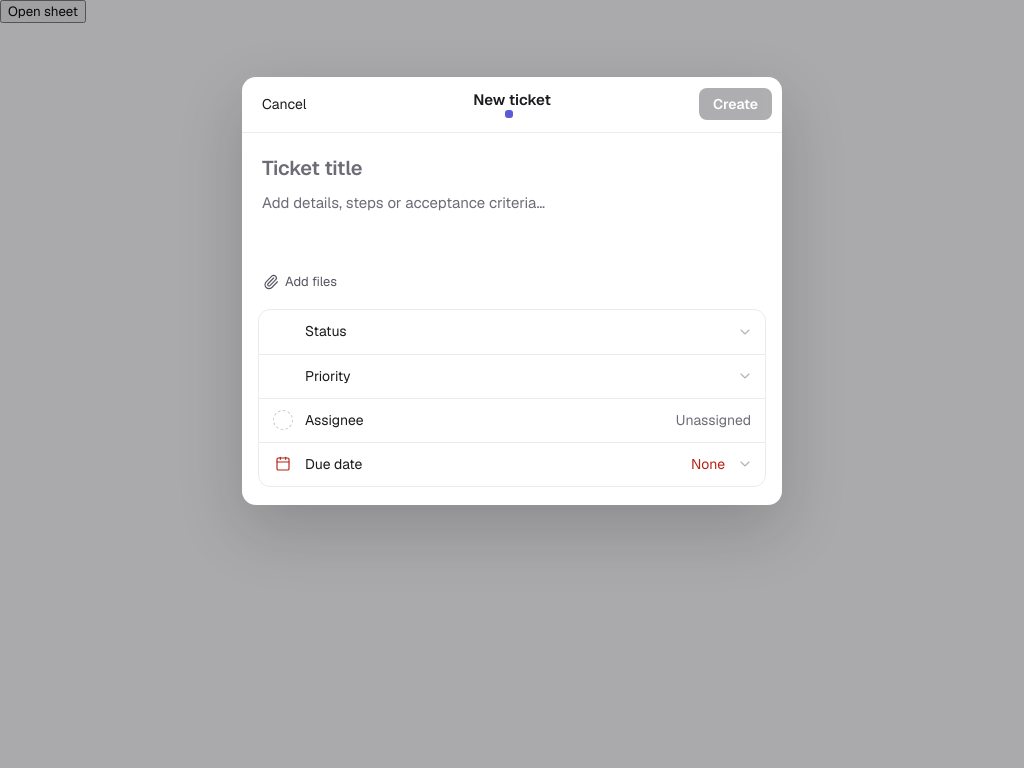
NewTicketSheet › lets the kept fields go once they are emptied or the ticket is created
The width and height of the screenshot is (1024, 768).
Step 1. Type "Typo" into the text box labelled "Ticket title" → x=512, y=168, box [262,151,762,185]
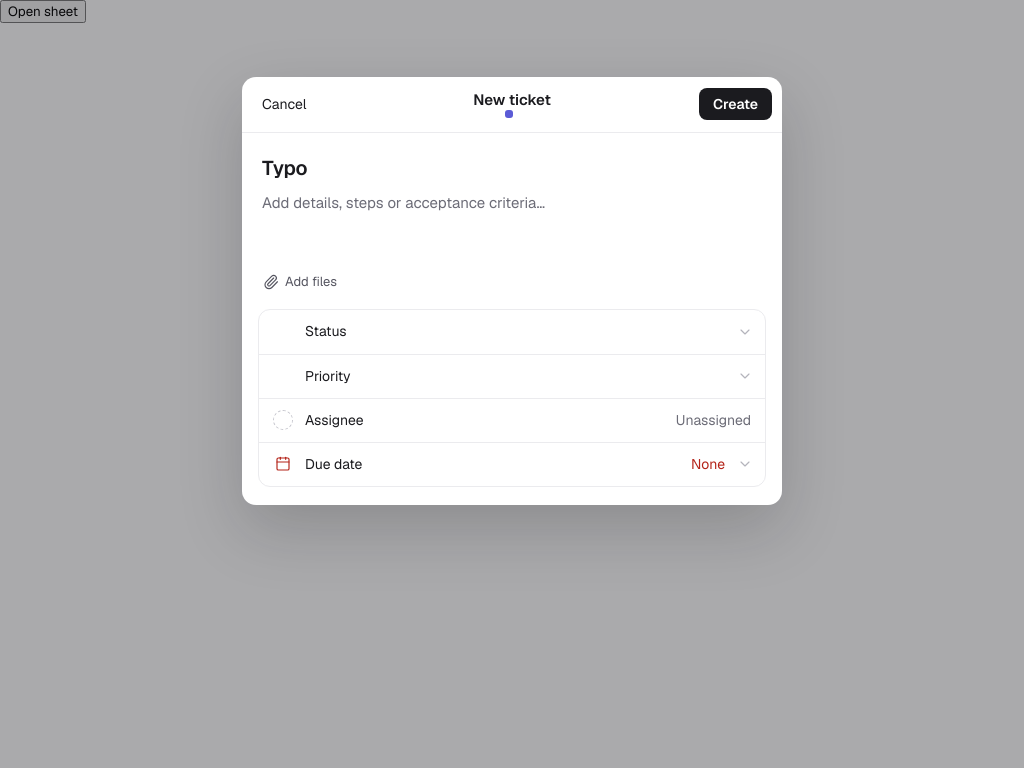
Step 2. Replace the text in the text box named "Ticket title" with "Cache avatars" → x=512, y=168, box [262,151,762,185]
Then press Enter
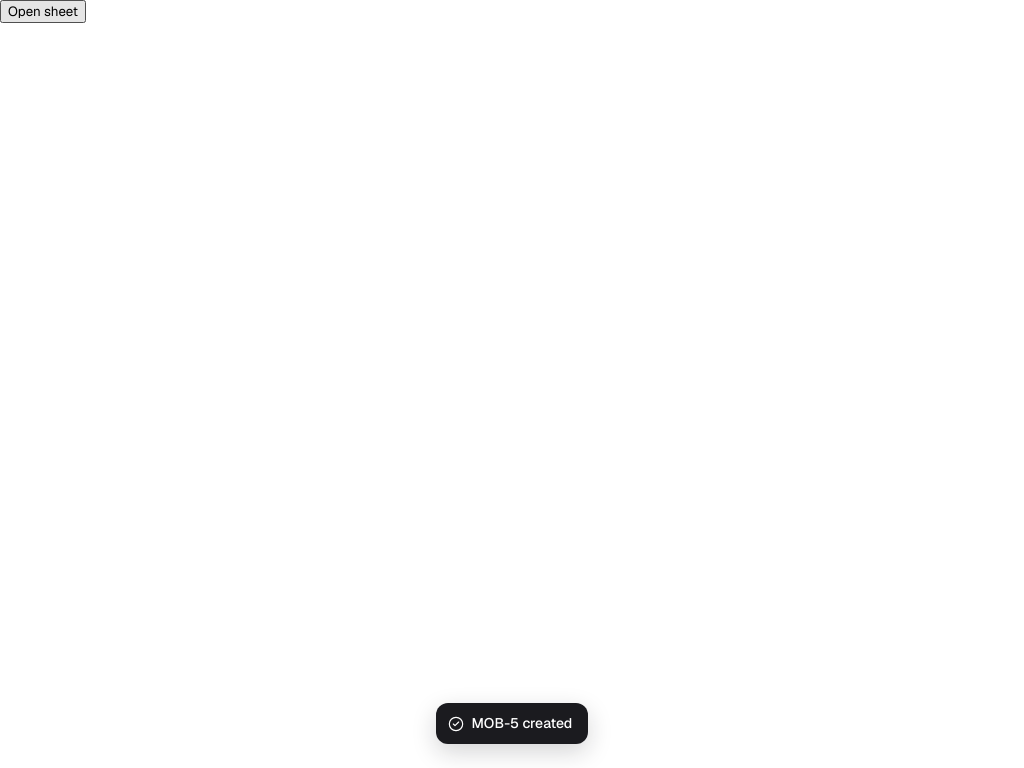
Check: the text "MOB-5 created" is shown, box [472,713,572,734]
